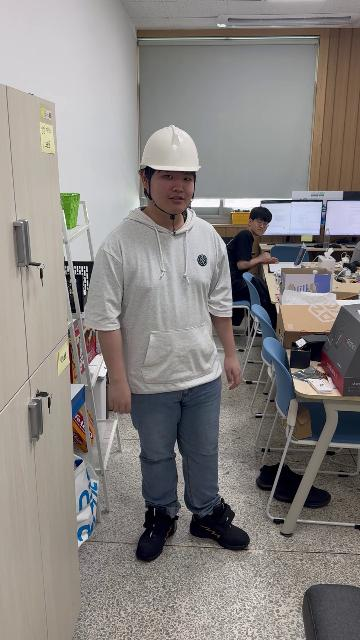helmet_worn: (139, 125, 204, 172)
shoe_worn: (188, 502, 253, 552), (137, 506, 177, 561)
vest_not_worn: (106, 218, 226, 402)
